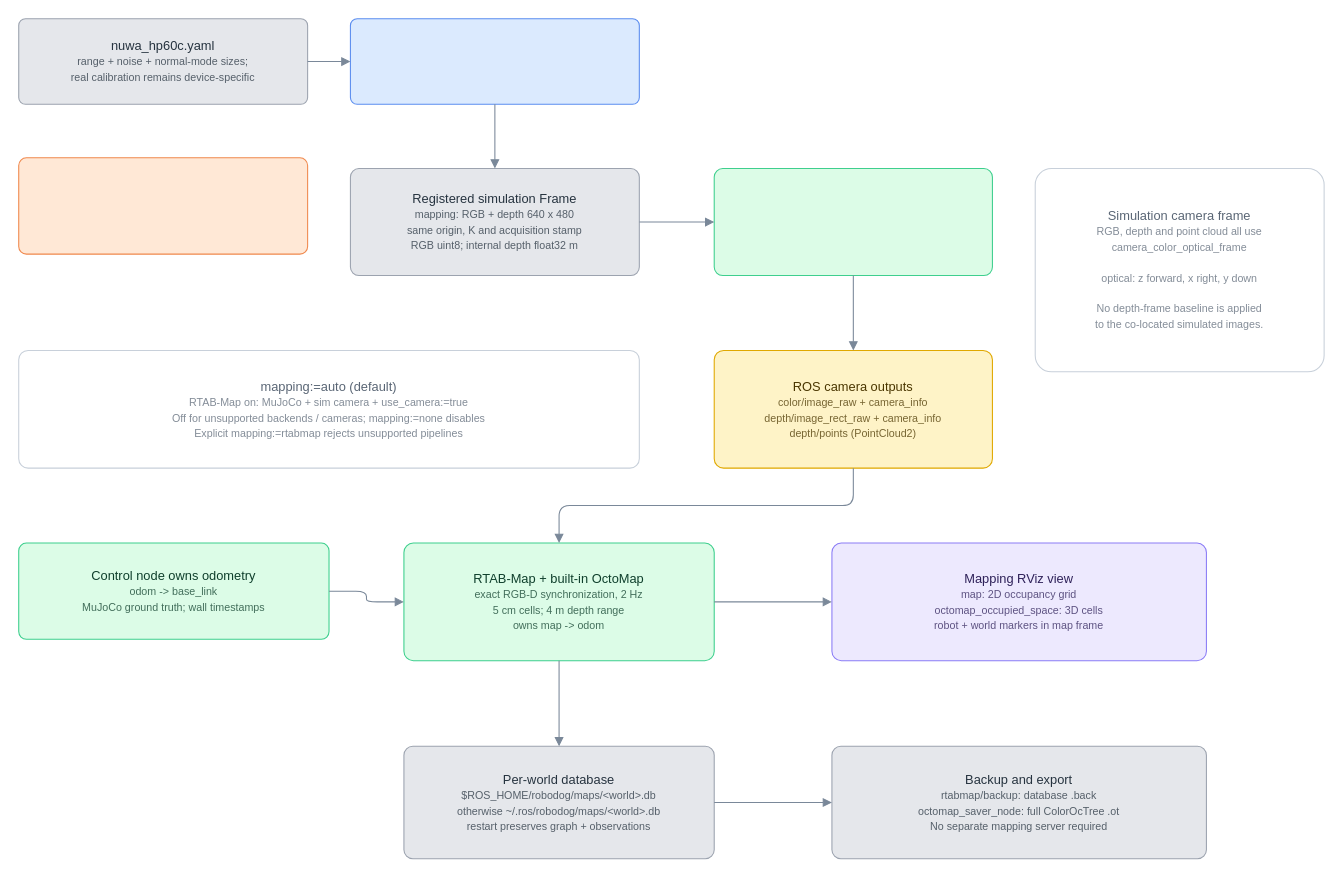
Image size: 1343x877. Some labels were removed from this diagram. Here are the shapes that lost their labels. From the top down, the centre of each, then its label:
(494,61): SimCameraBackend MuJoCo RGB-D render; K derived from rendered FOV
(163,205): NuwaHP60CBackend RGB capture only today; depth / hardware odometry unavailable
(852,221): robodog_camera_node 15 Hz; depth -> 16UC1 millimetres 0 depth means invalid
